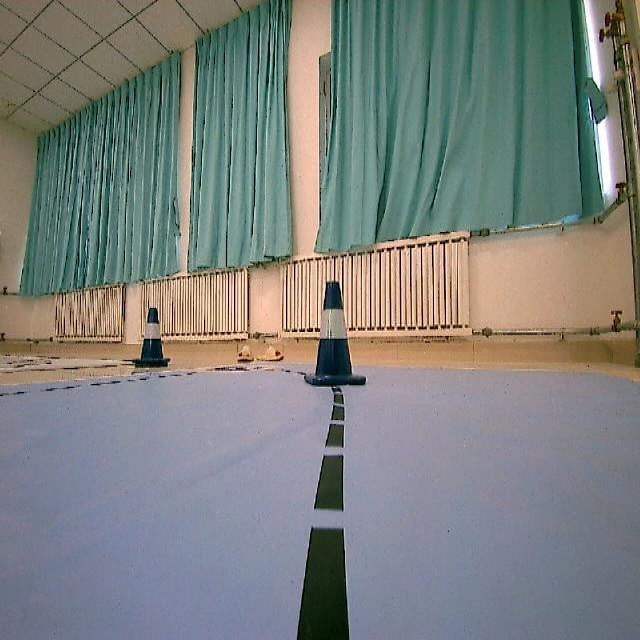obstacle: (303, 272, 372, 397), (132, 297, 176, 382)
